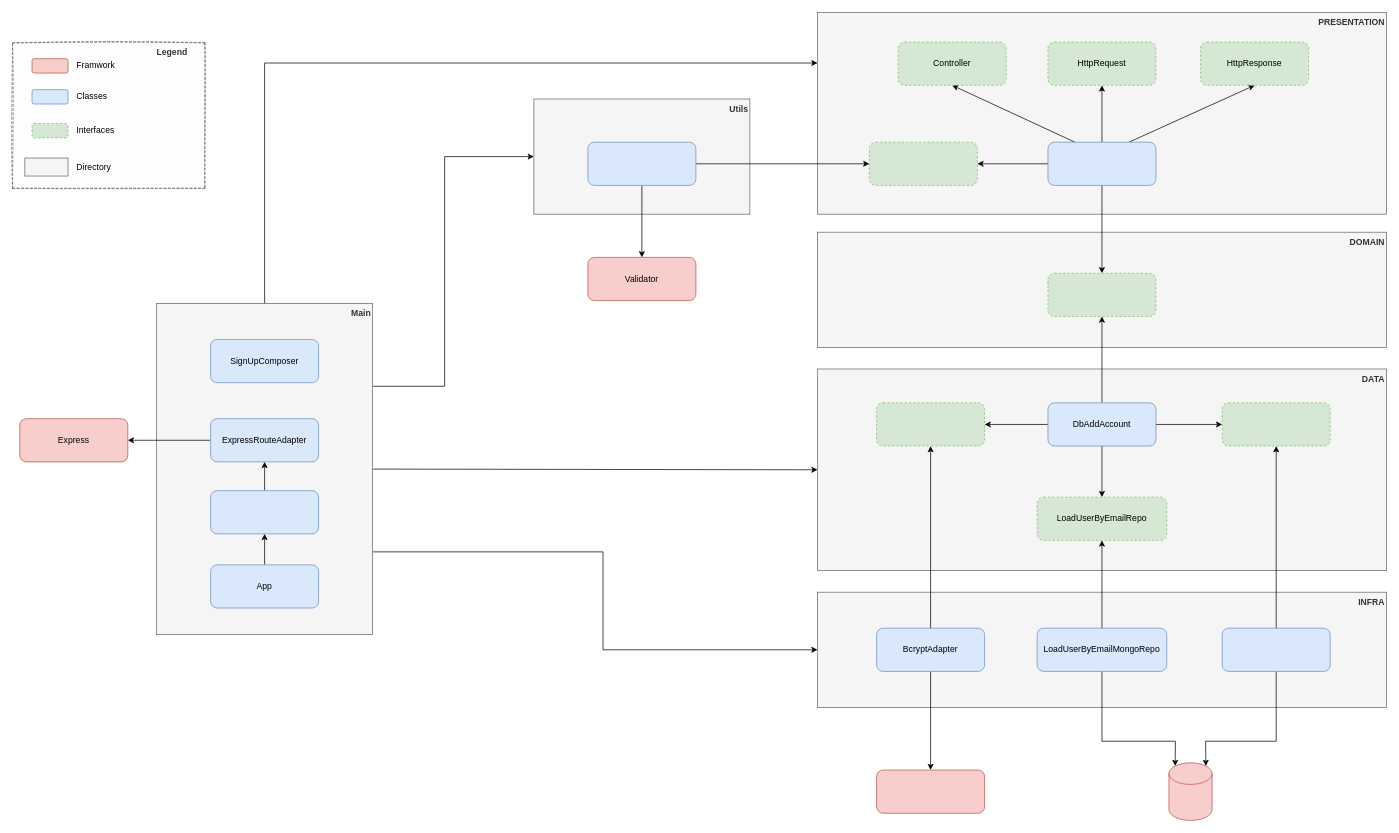
This 1399x833 diagram has some shape labels left out. The shapes that lost their labels are listed below. From the top down, each one's centre as x and y in pixels, then its label:
At (x=641, y=163): "EmailValidatorAdapter".
At (x=923, y=163): "EmailValidator".
At (x=1101, y=163): "SignUpController".
At (x=1101, y=294): "AddAcount".
At (x=930, y=424): "Encrypter".
At (x=1275, y=424): "AddUserRepo".
At (x=264, y=512): "SignUpRouter".
At (x=1275, y=649): "AddUserMongoRepo".
At (x=930, y=791): "BCrypt".
At (x=1190, y=791): "MongoDb".
